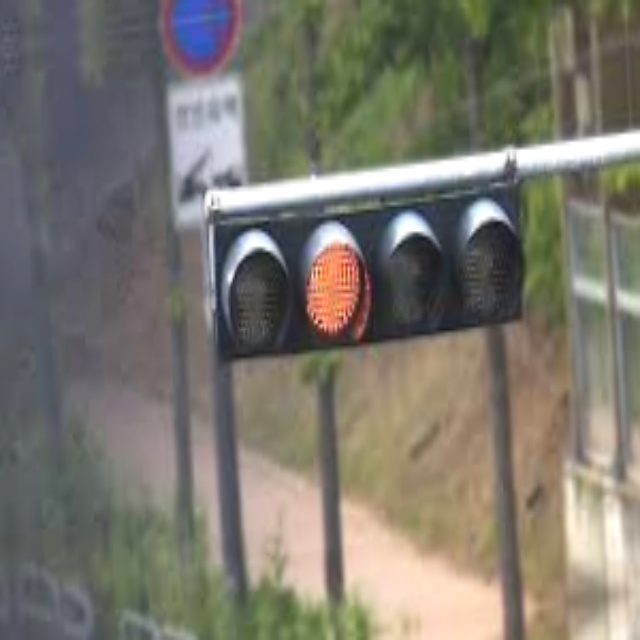yellow_light: (302, 244, 365, 342)
